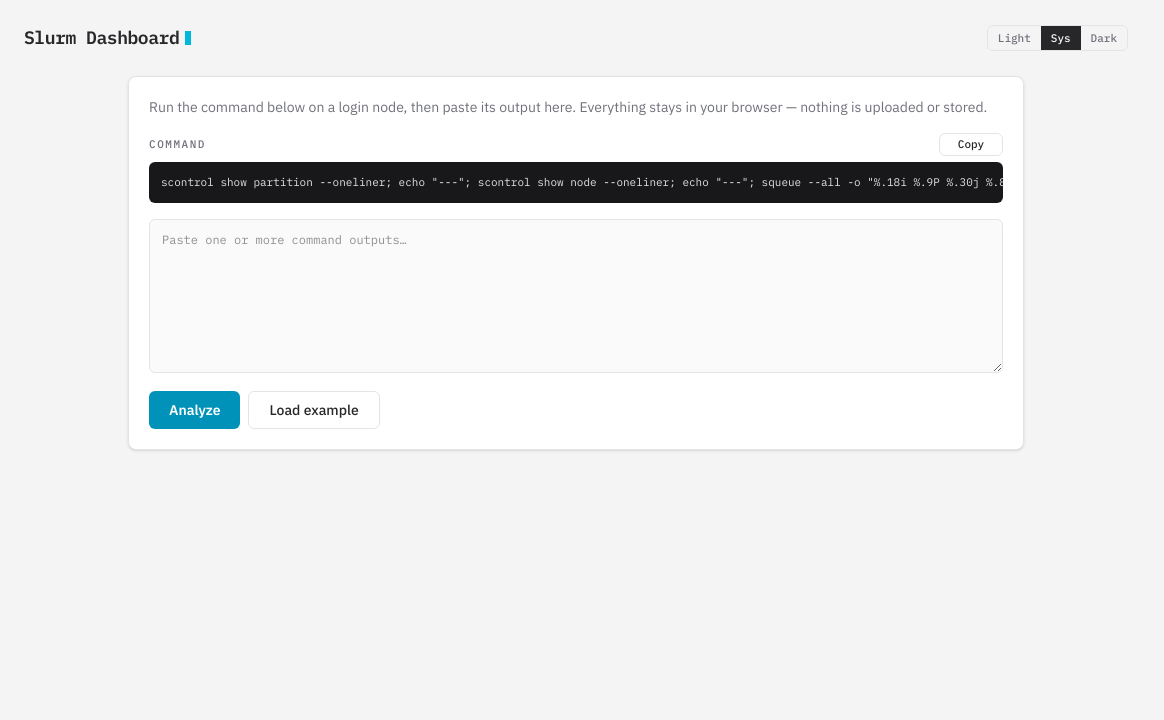
Slurm Dashboard › Overview Tab › shows usage by user sorted by GPUs
Click the button "Load example" at (314, 410), box [248,391,380,429]
(page scrolled)
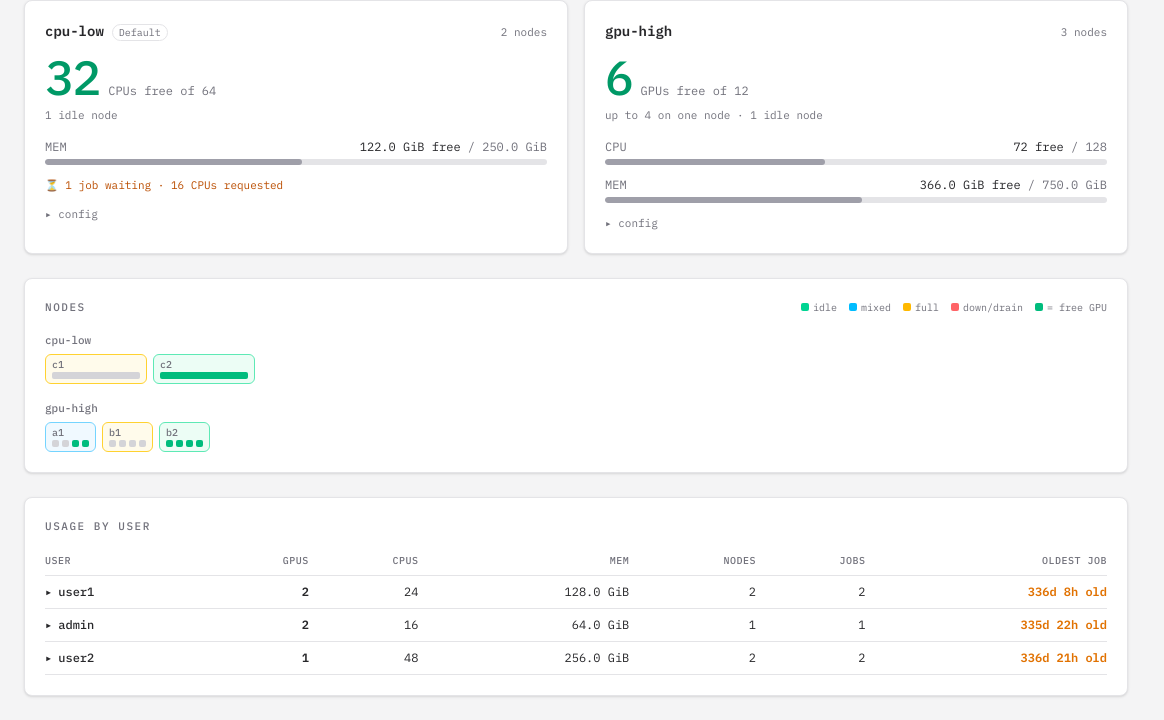
expect the row with test id "user-row" shows "user1": met, box [58,584,94,599]
expect the row with test id "user-row" shows "admin": met, box [58,617,94,632]
expect the row with test id "user-row" shows "user2": met, box [58,650,94,665]
